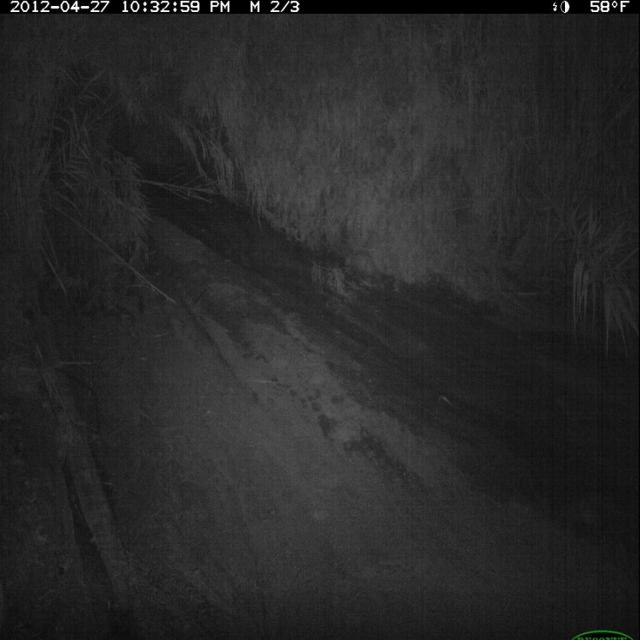opossum: (342, 247, 393, 288)
